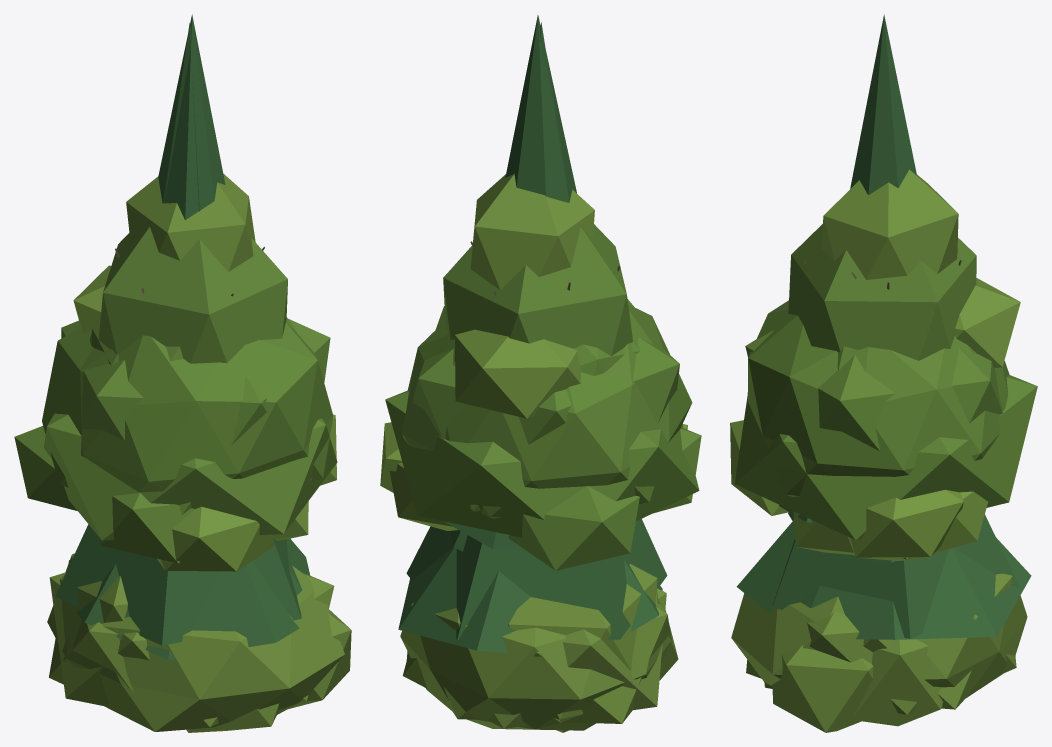
File: trees.glb
3 renders of one model, left to right at view 1: azimuth 30°, elevation 25°; view 2: azimuth 150°, elevation 25°; view 3: azimuth 270°, elevation 25°, orthographic.
Visible parts, largest first — view 1: tree_round__leaf0, shrub_round__bush0, tree_tall__lod_leaf0, tree_spread__lod_leaf0, tree_pine__lod_needle0, tree_tall__leaf1, tree_spruce__needle4, tree_pine__needle0, tree_round__lod_leaf0, tree_spread__leaf3, tree_round__leaf2, shrub_clump__lod_bush0 (+9 smaller); view 2: tree_round__leaf0, tree_spread__lod_leaf0, shrub_round__bush0, tree_tall__lod_leaf0, tree_pine__lod_needle0, tree_tall__leaf1, tree_round__leaf3, tree_pine__needle0, tree_spread__leaf2, tree_round__lod_leaf0, tree_spruce__needle4, shrub_clump__bush0 (+7 smaller); view 3: tree_round__leaf0, tree_spread__lod_leaf0, tree_tall__lod_leaf0, tree_pine__needle0, tree_tall__leaf1, shrub_round__bush0, tree_pine__lod_needle0, tree_round__lod_leaf0, shrub_round__bush1, tree_spruce__needle4, tree_spread__leaf1, shrub_clump__bush1 (+6 smaller).
Boxes of the visible parts, x1=… form: tree_round__leaf0: x1=42, y1=322, x2=333, y2=492; shrub_round__bush0: x1=47, y1=553, x2=344, y2=731; tree_tall__lod_leaf0: x1=98, y1=227, x2=287, y2=363; tree_spread__lod_leaf0: x1=44, y1=413, x2=337, y2=540; tree_pine__lod_needle0: x1=55, y1=524, x2=301, y2=645; tree_tall__leaf1: x1=126, y1=174, x2=255, y2=271; tree_spruce__needle4: x1=158, y1=14, x2=225, y2=220; tree_pine__needle0: x1=76, y1=538, x2=310, y2=659; tree_round__lod_leaf0: x1=61, y1=318, x2=330, y2=514; tree_spread__leaf3: x1=157, y1=506, x2=275, y2=571; tree_round__leaf2: x1=99, y1=493, x2=194, y2=563; shrub_clump__lod_bush0: x1=49, y1=572, x2=218, y2=727; tree_round__leaf0: x1=402, y1=304, x2=692, y2=518; tree_spread__lod_leaf0: x1=385, y1=390, x2=699, y2=537; shrub_round__bush0: x1=400, y1=588, x2=678, y2=730; tree_tall__lod_leaf0: x1=443, y1=224, x2=632, y2=356; tree_pine__lod_needle0: x1=406, y1=519, x2=667, y2=640; tree_tall__leaf1: x1=470, y1=174, x2=594, y2=290; tree_round__leaf3: x1=455, y1=329, x2=581, y2=418; tree_pine__needle0: x1=398, y1=547, x2=662, y2=653; tree_spread__leaf2: x1=508, y1=486, x2=639, y2=570; tree_round__lod_leaf0: x1=412, y1=306, x2=679, y2=511; tree_spruce__needle4: x1=505, y1=15, x2=576, y2=202; shrub_clump__bush0: x1=508, y1=564, x2=657, y2=732; tree_round__leaf0: x1=747, y1=300, x2=1009, y2=496; tree_spread__lod_leaf0: x1=734, y1=374, x2=1037, y2=540; tree_tall__lod_leaf0: x1=788, y1=224, x2=976, y2=360; tree_pine__needle0: x1=736, y1=520, x2=1031, y2=639; tree_tall__leaf1: x1=821, y1=169, x2=958, y2=279; shrub_round__bush0: x1=731, y1=573, x2=1027, y2=697; tree_pine__lod_needle0: x1=772, y1=514, x2=1019, y2=638; tree_round__lod_leaf0: x1=745, y1=330, x2=1002, y2=491; shrub_round__bush1: x1=772, y1=645, x2=873, y2=732; tree_spruce__needle4: x1=850, y1=14, x2=916, y2=195; tree_spread__leaf1: x1=848, y1=489, x2=963, y2=560; shrub_clump__bush1: x1=852, y1=639, x2=942, y2=726.
Bounding box in the file's own units: 2.09 × 4.95 × 2.01.
